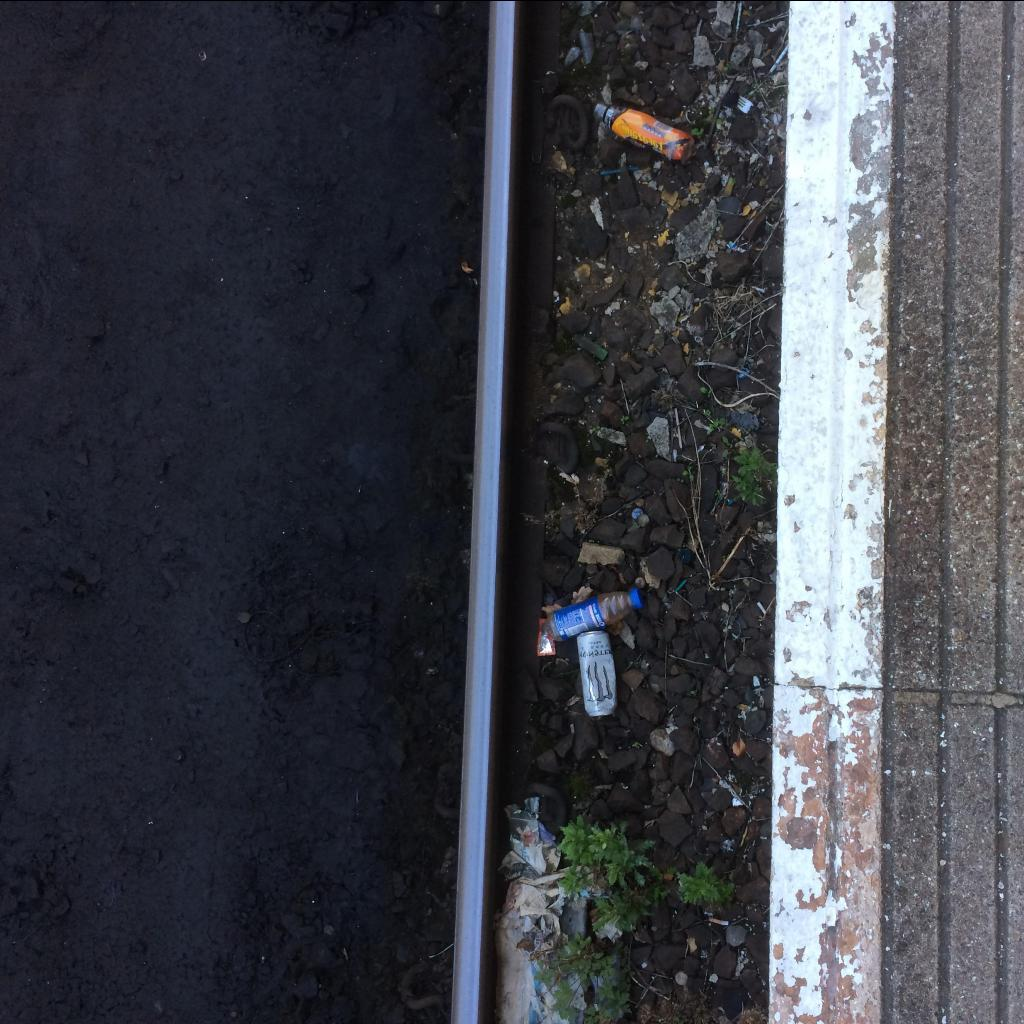Cigarette: (708, 916, 730, 922)
Clear plastic bottle: (594, 100, 698, 164), (542, 586, 644, 640)
Drink can: (577, 629, 617, 716)
Metal bottle cap: (637, 513, 649, 525), (635, 576, 646, 588), (632, 506, 642, 518)
Normal paper: (493, 796, 610, 1023)
Other plastic: (537, 618, 556, 654)
Other plastic wrapper: (675, 578, 687, 590)
Plastic bottle cap: (632, 587, 644, 608), (679, 548, 693, 562)
Unlabeled litter: (769, 43, 789, 73), (727, 240, 745, 252), (736, 1, 742, 33), (738, 366, 750, 378)
